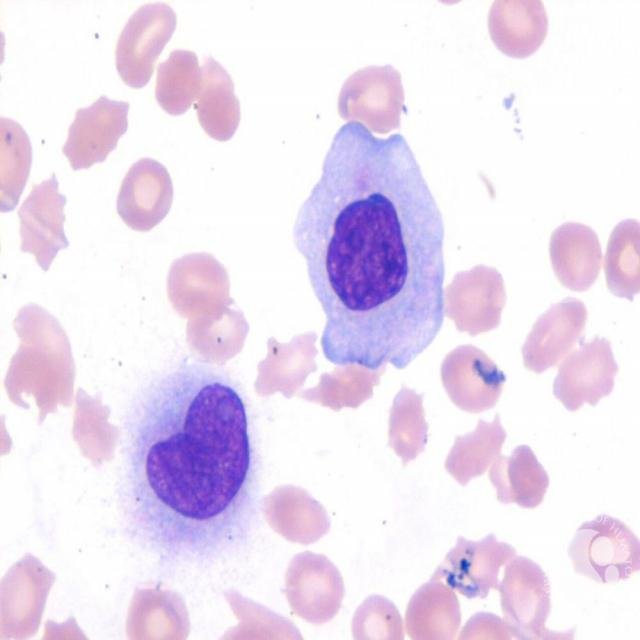ALL Positive Cell: (291, 134, 449, 380), (129, 371, 254, 545)
